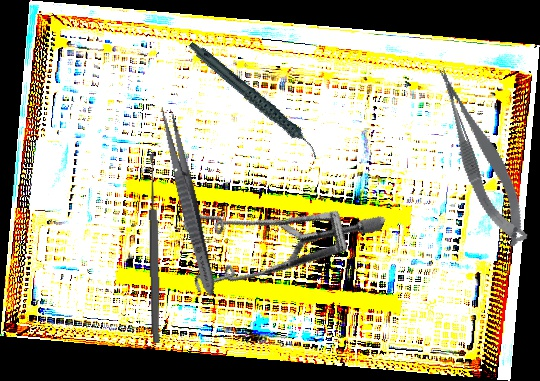Dressing Forceps: (154, 104, 222, 299)
Handpiece: (188, 20, 321, 181)
Micro Scissor: (430, 57, 534, 254)
Speculum: (159, 143, 387, 350)
Surgical Spoon: (147, 153, 162, 344)
